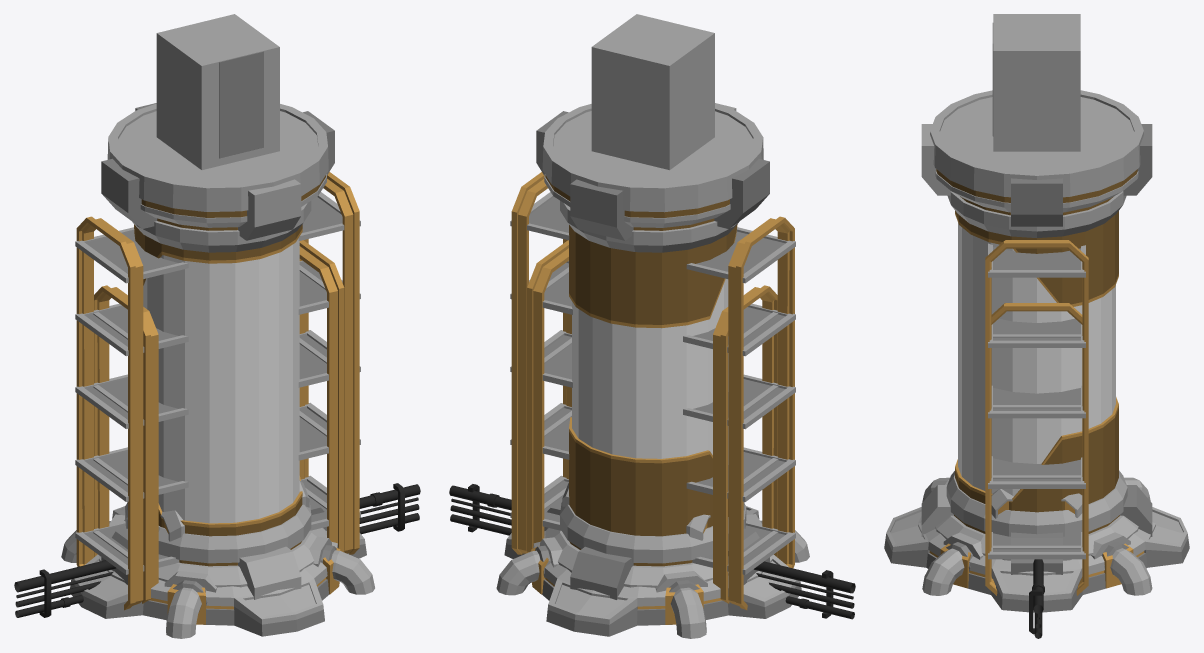
File: station-props.glb
3 renders of one model, left to right at view 1: azimuth 30°, elevation 25°; view 2: azimuth 150°, elevation 25°; view 3: azimuth 270°, elevation 25°, orthographic. The views are drawn at different scales.
Parts seen in each view (by area): view 1: Props_Pod, Props_Shelf_Tall, Props_Shelf, Column_1, Props_Base, Pipes, Column_Slim, Props_CrateLong; view 2: Props_Pod, Props_Shelf_Tall, Column_1, Props_Shelf, Props_Base, Pipes, Props_CrateLong; view 3: Props_Pod, Props_Shelf_Tall, Column_1, Props_Base, Props_Shelf, Pipes, Props_CrateLong.
Part boxes in pixels (x1,y1,x2,y2): Props_Pod: [61, 103, 374, 638]; Props_Shelf_Tall: [75, 172, 360, 610]; Props_Shelf: [93, 240, 344, 603]; Column_1: [156, 14, 279, 169]; Props_Base: [70, 506, 366, 636]; Pipes: [14, 483, 420, 617]; Column_Slim: [219, 51, 263, 158]; Props_CrateLong: [127, 480, 309, 541]; Props_Pod: [496, 103, 809, 638]; Props_Shelf_Tall: [510, 172, 795, 610]; Column_1: [591, 14, 714, 170]; Props_Shelf: [527, 240, 778, 603]; Props_Base: [504, 506, 801, 636]; Pipes: [449, 484, 855, 619]; Props_CrateLong: [562, 483, 744, 540]; Props_Pod: [921, 90, 1152, 595]; Props_Shelf_Tall: [985, 240, 1088, 595]; Column_1: [993, 14, 1080, 151]; Props_Base: [884, 507, 1189, 612]; Props_Shelf: [991, 303, 1082, 577]; Pipes: [1029, 559, 1044, 638]; Props_CrateLong: [991, 489, 1082, 518].
Size of the model in its own units: 3.51 by 4.46 by 2.4.
